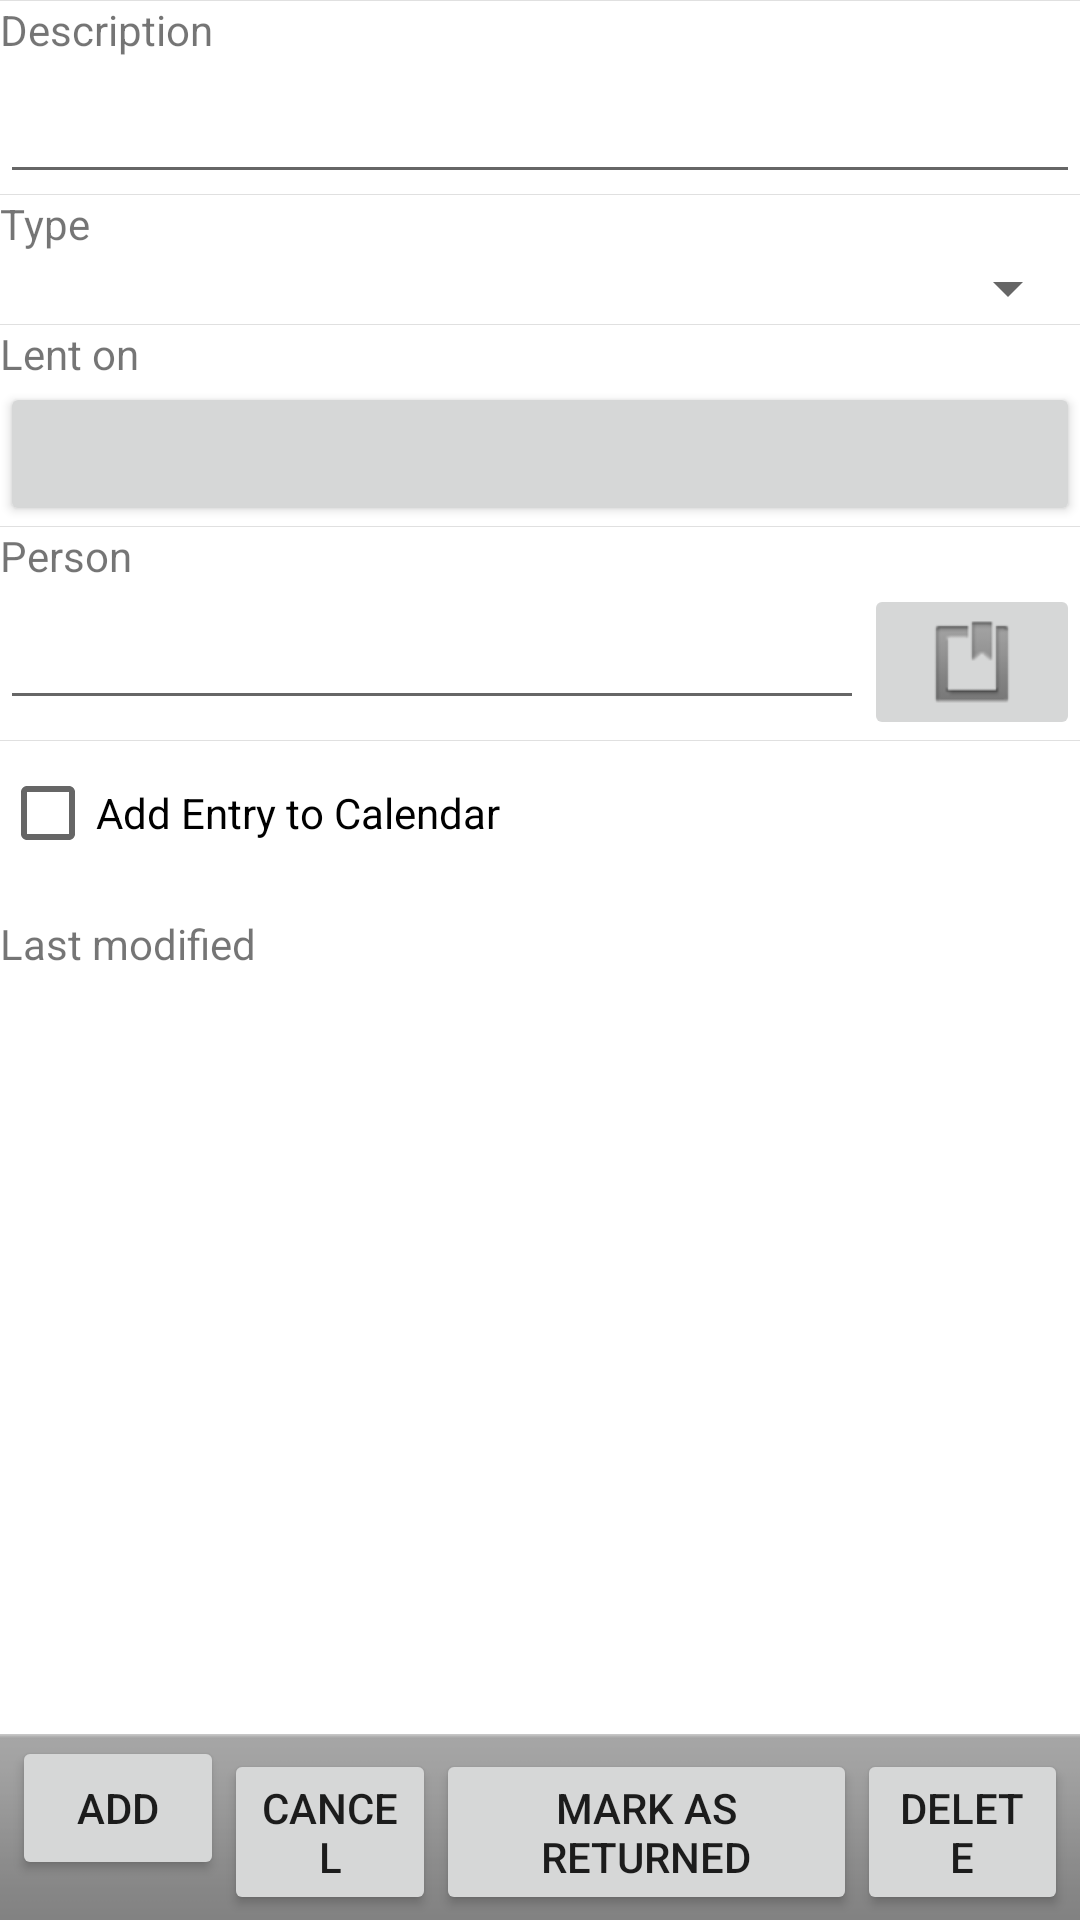

Icons on this 1080x1920 Android screen, each with its box as BBox(x1, y1, x2, y2):
Choose person: BBox(876, 602, 1068, 722)
